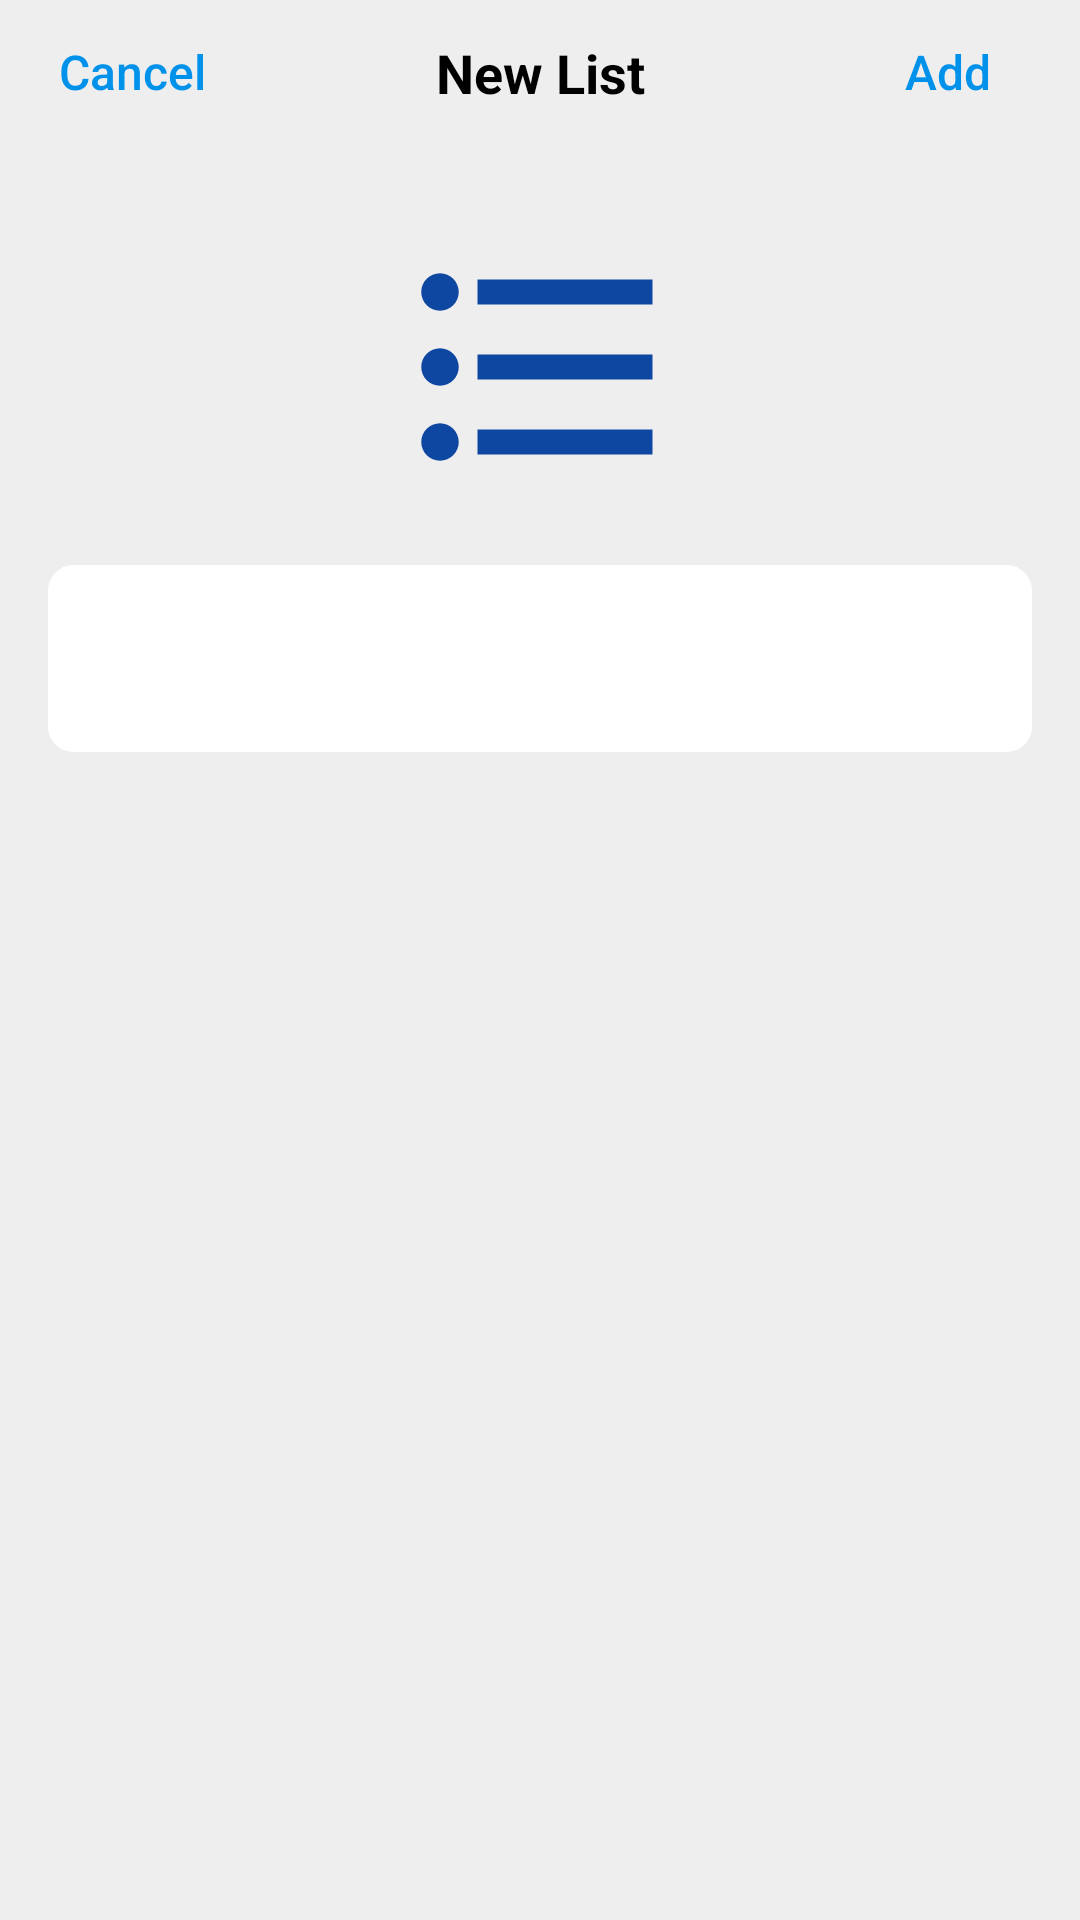

Named icons in this screenshot (1080px×1920px) and their bounding boxes, (x1, y1, x2, y2):
format list bulleted: (421, 273, 653, 461)
